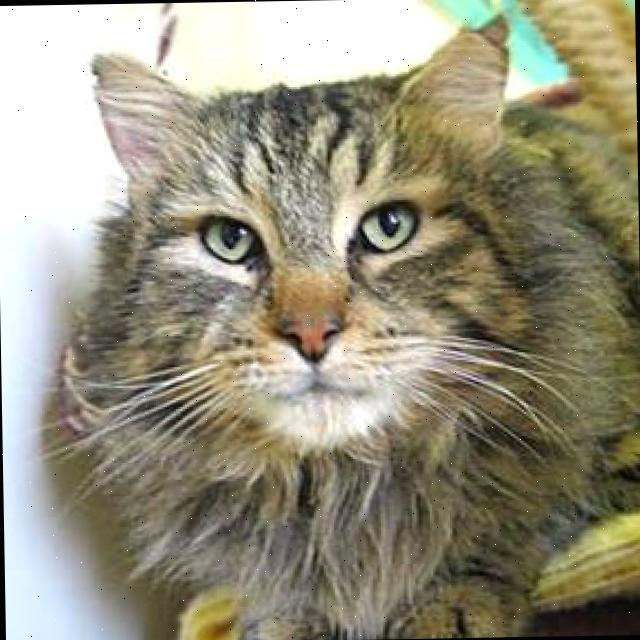cat-eye-normal: (342, 192, 434, 266), (190, 203, 275, 277)
